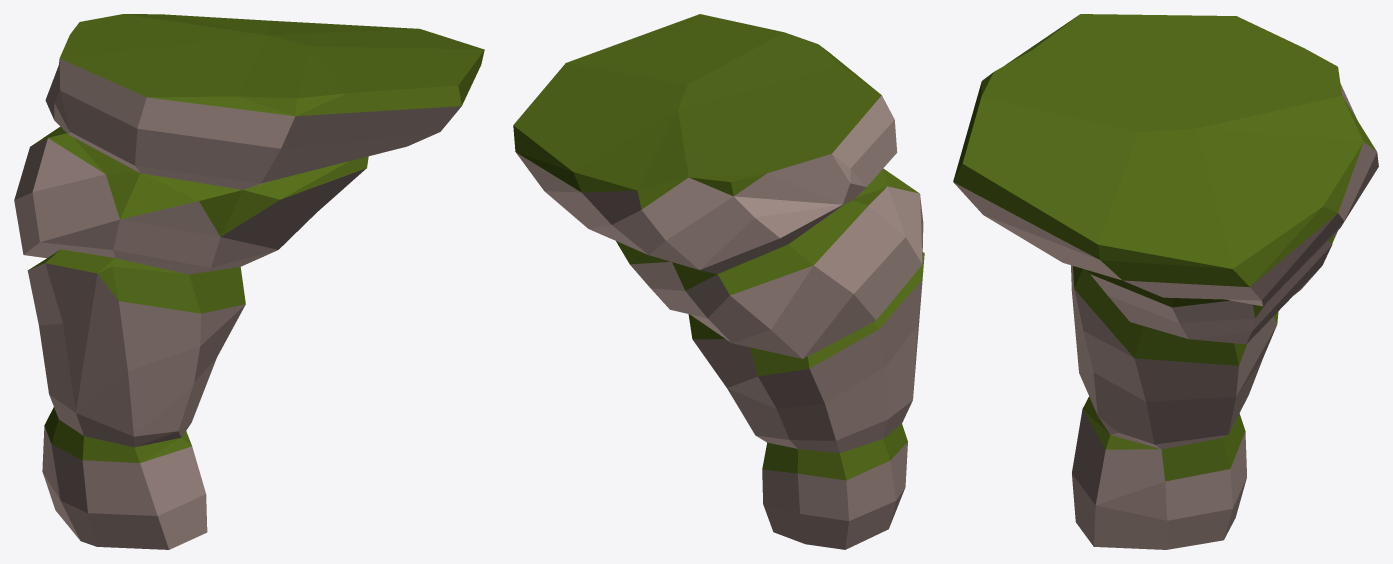
File: Rock_25.fbx
The picture shows the model from 3 angles, left to right: view 1: azimuth 30°, elevation 25°; view 2: azimuth 150°, elevation 25°; view 3: azimuth 270°, elevation 25°; orthographic projection. The views are drawn at different scales.
Visible parts, largest first — view 1: Rock_25; view 2: Rock_25; view 3: Rock_25.
Part boxes in pixels (x1,y1,x2,y2): Rock_25: [14, 14, 484, 549]; Rock_25: [513, 14, 924, 549]; Rock_25: [953, 14, 1378, 549].
Size of the model in its own units: 10.25 by 10.61 by 8.21.
